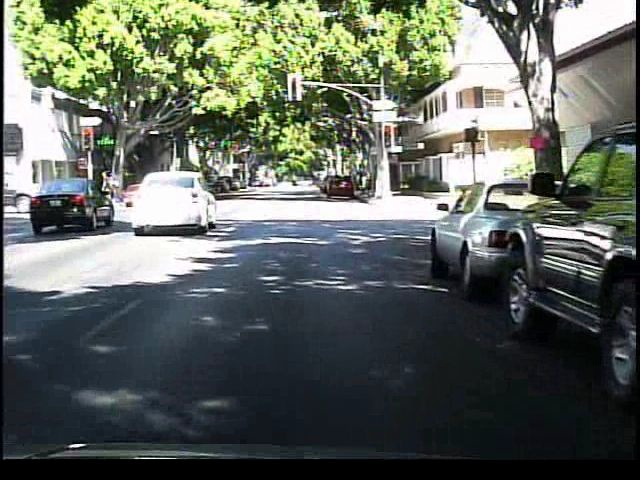person: (100, 163, 125, 205)
